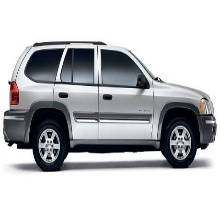no damage: (4, 42, 218, 171)
